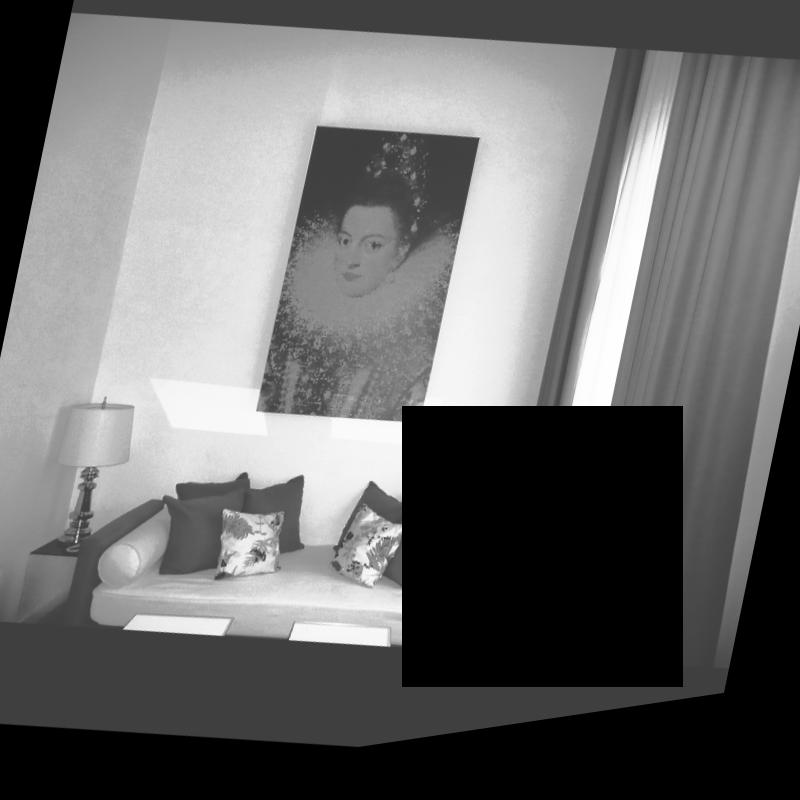pillow: (148, 482, 250, 595), (189, 504, 291, 611), (239, 471, 323, 577), (403, 505, 473, 624), (331, 481, 413, 574), (326, 512, 403, 604), (175, 464, 254, 510), (404, 488, 468, 542)
